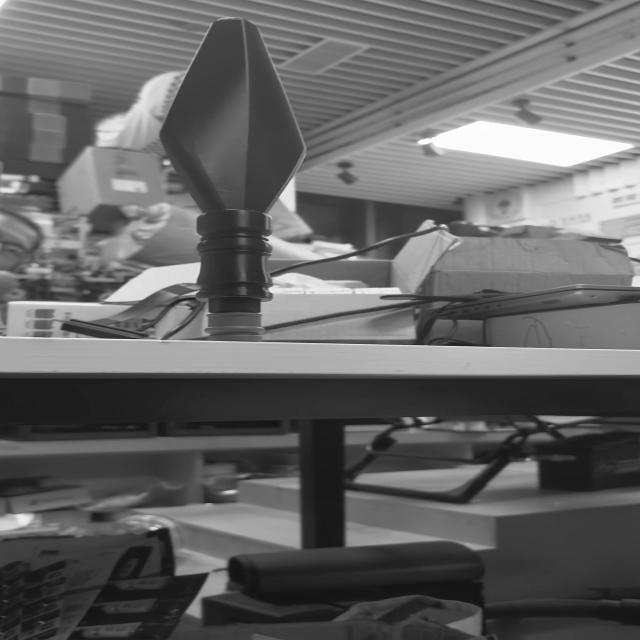base: (202, 308, 270, 345)
